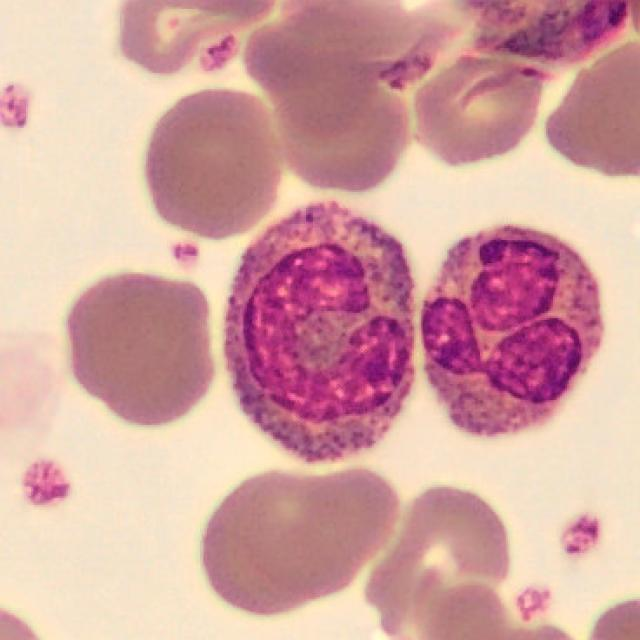Bastonete: (221, 203, 416, 464)
Neutrofilo segmentado: (419, 226, 603, 439)
